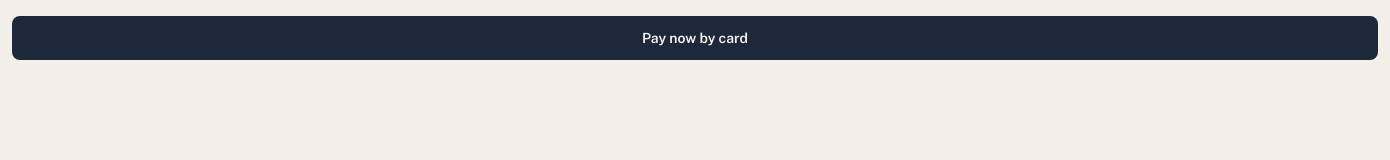
Test: shows the expiry message with a contact path for an invalid or expired link
Click the button "Pay now by card" at (695, 38), box [12,16,1378,60]
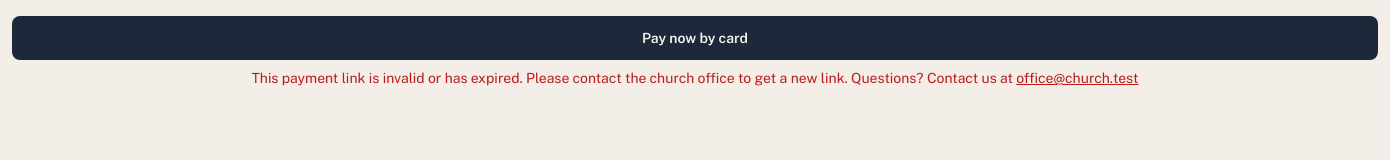
expect the message shows "expired": met, box [252,70,848,86]
expect the message shows "contact the church office": met, box [252,70,848,86]
